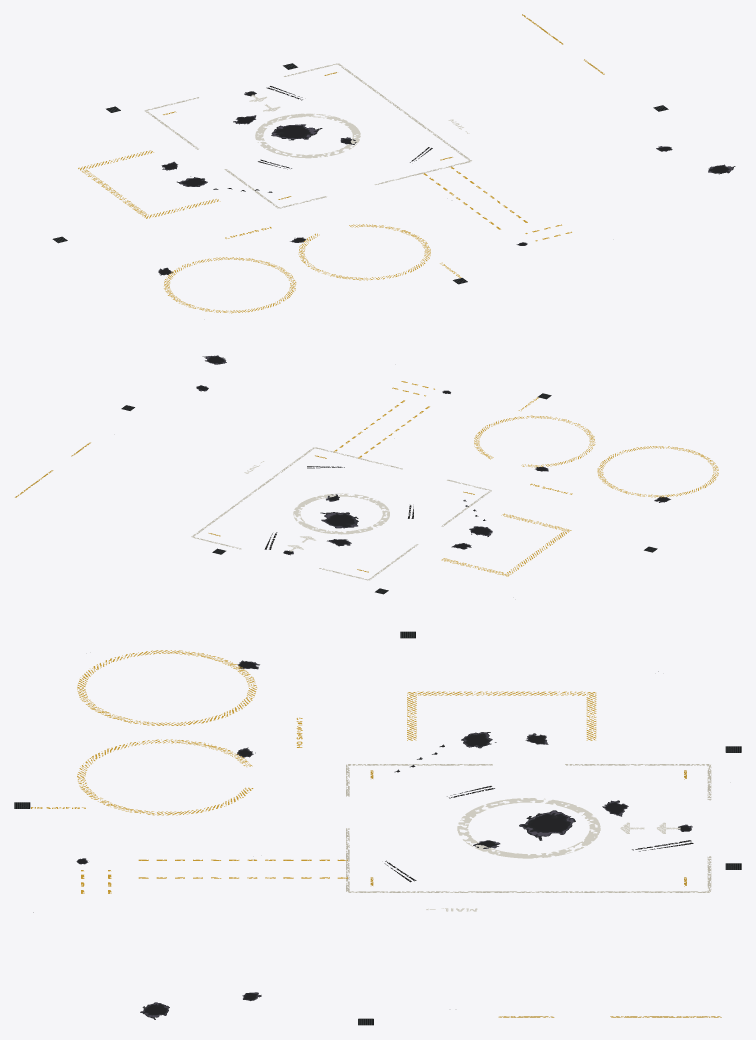
The model's file is DeckDecals.fbx.
3 renders of one model, top to bottom at view 1: azimuth 30°, elevation 25°; view 2: azimuth 150°, elevation 25°; view 3: azimuth 270°, elevation 25°, orthographic. The views are drawn at different scales.
Parts seen in each view (by area): view 1: DeckDecals; view 2: DeckDecals; view 3: DeckDecals.
Part boxes in pixels (<box>): DeckDecals: <box>52,14,735,313</box>; DeckDecals: <box>15,355,718,594</box>; DeckDecals: <box>14,631,741,1025</box>.
Bounding box in the file's own units: 30.95 × 0.005 × 24.15.
